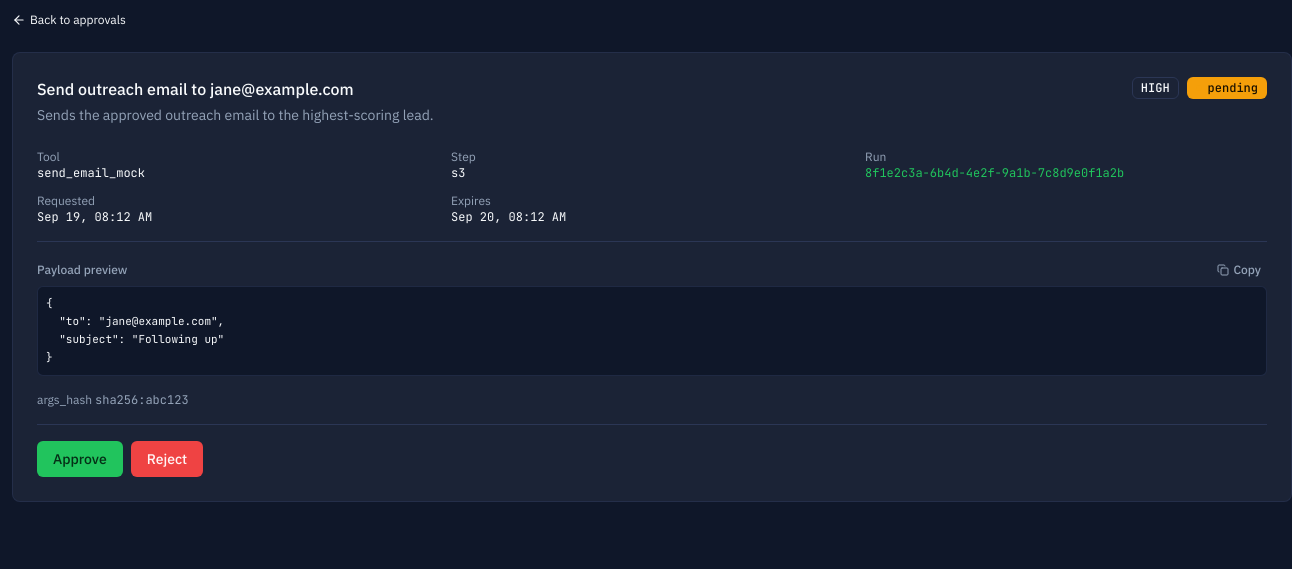
Test: ApprovalDetailView › shows the run's own error message when the code is not one of the known conflict codes
Click the button "Approve": x=80, y=458 x1=37 y1=440 x2=123 y2=476
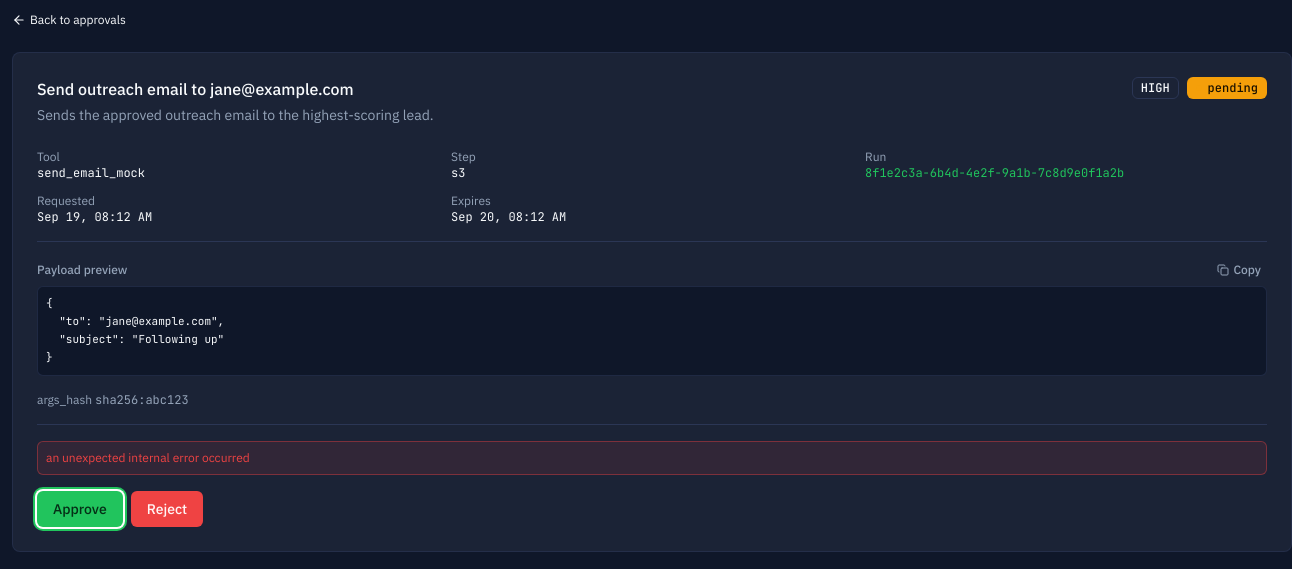
Expected: the text "an unexpected internal error occurred" is shown, x1=37 y1=440 x2=1267 y2=474
